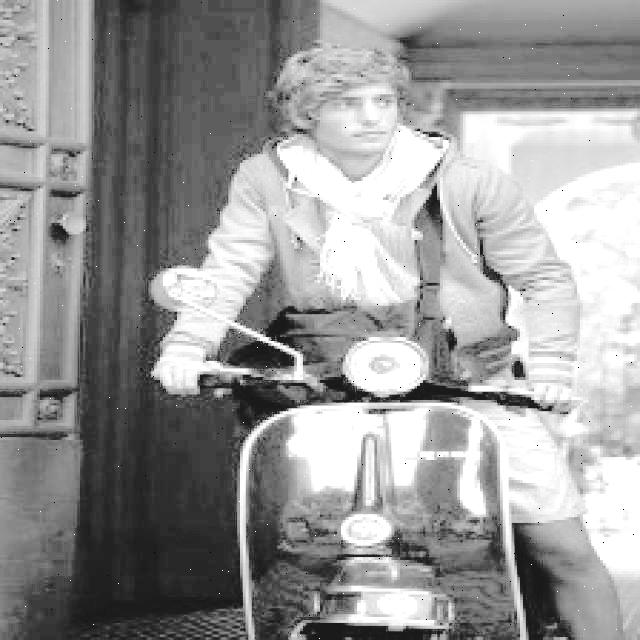Bike: (206, 334, 546, 638)
